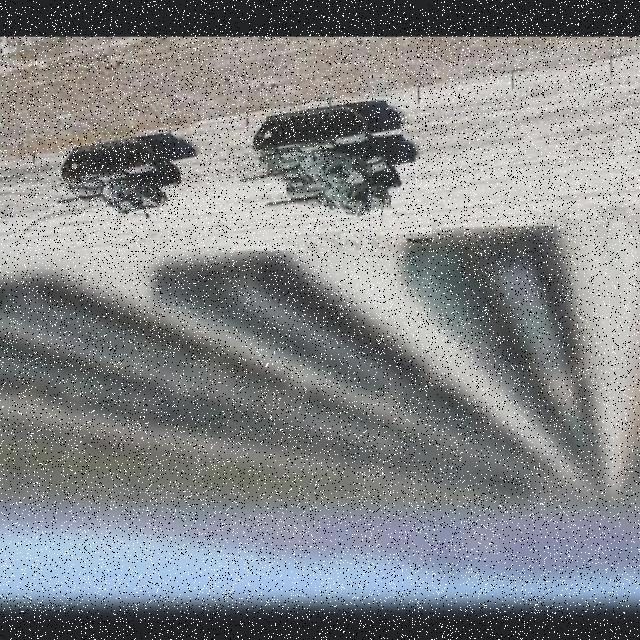MIL_MBT: (250, 112, 409, 183), (60, 142, 182, 217)
